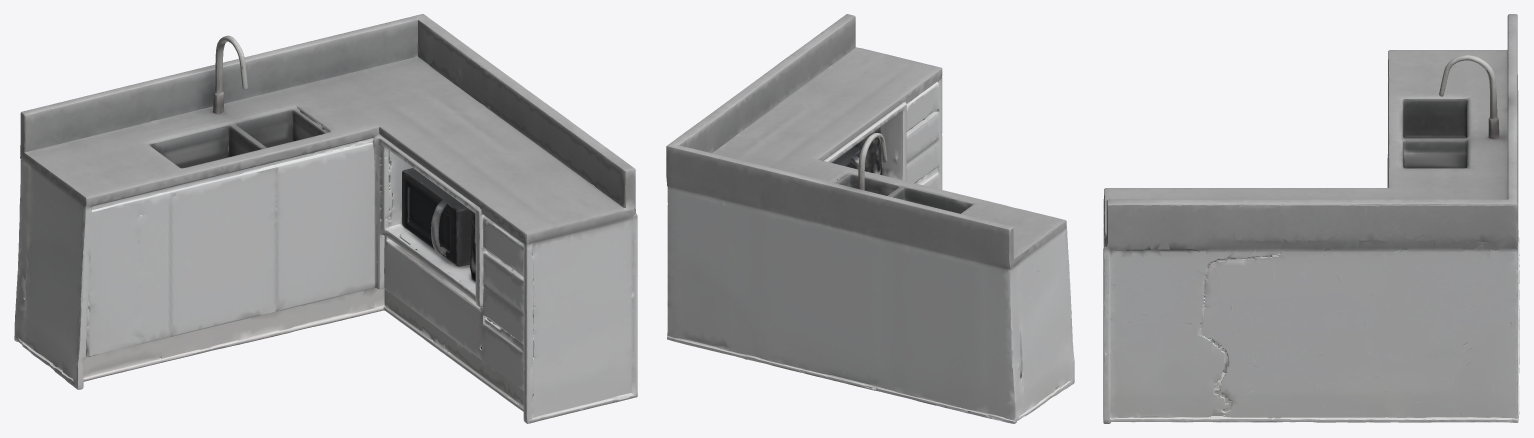
File: item_2125a13b.glb
3 views of the same model, side by side, from view 1: azimuth 30°, elevation 25°; view 2: azimuth 150°, elevation 25°; view 3: azimuth 270°, elevation 25° (orthographic). The views are drawn at different scales.
Visible parts, largest first — view 1: world; view 2: world; view 3: world.
Part boxes in pixels (x1,y1,x2,y2): world: [14, 14, 637, 423]; world: [666, 14, 1074, 423]; world: [1103, 14, 1519, 423].
Size of the model in its own units: 3 by 1.91 by 2.71.
1 material, 1 textured.
